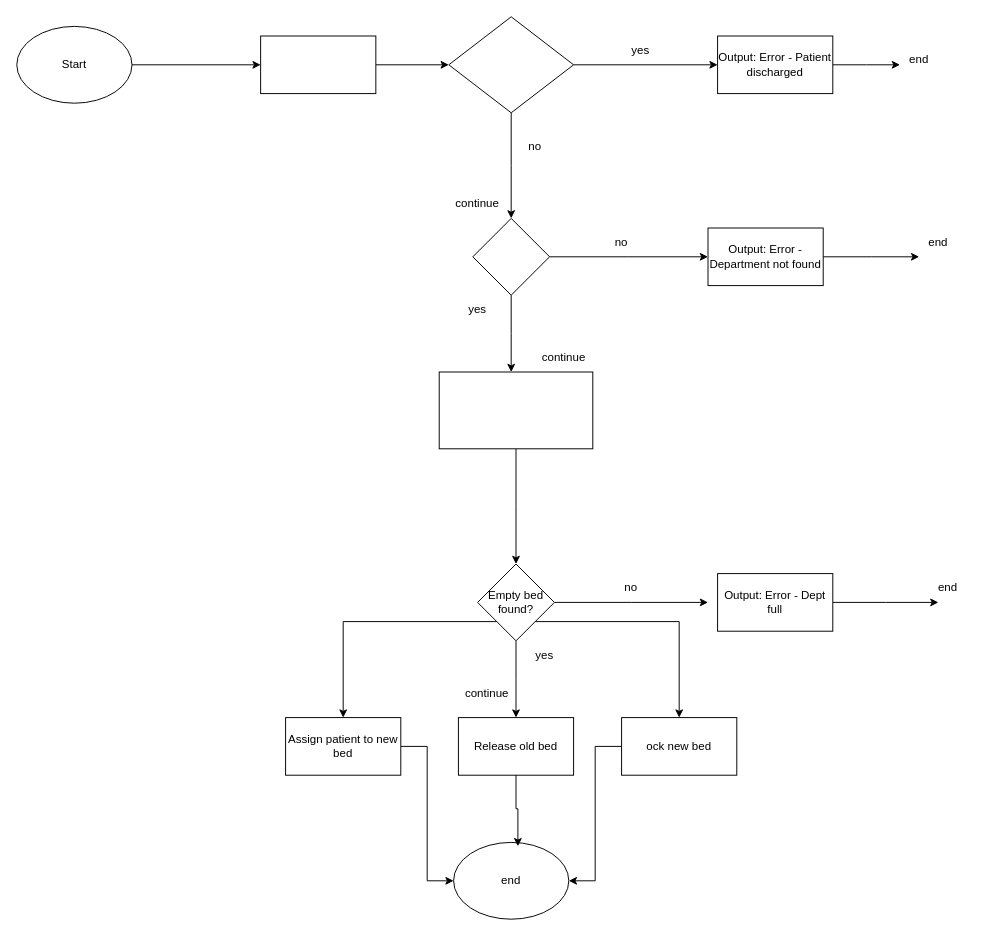
Image size: 994x936. Some labels were removed from this diagram. Here are the shapes that lost their labels. From the top down, the centre of each, then its label:
At pixel 318 64: "Input: Patient_ID, Dept_ID".
At pixel 511 64: "Status = Completed?".
At pixel 511 256: "Dept_ID exists?".
At pixel 515 410: "Call FindEmptyBed(Dept_ID)".
